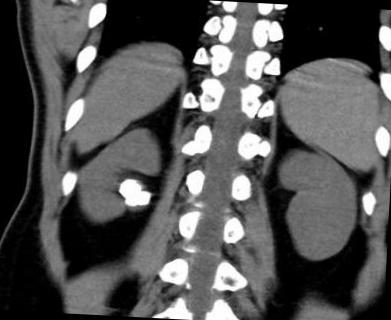Tas_Var: (123, 190, 153, 208), (118, 177, 141, 196)
